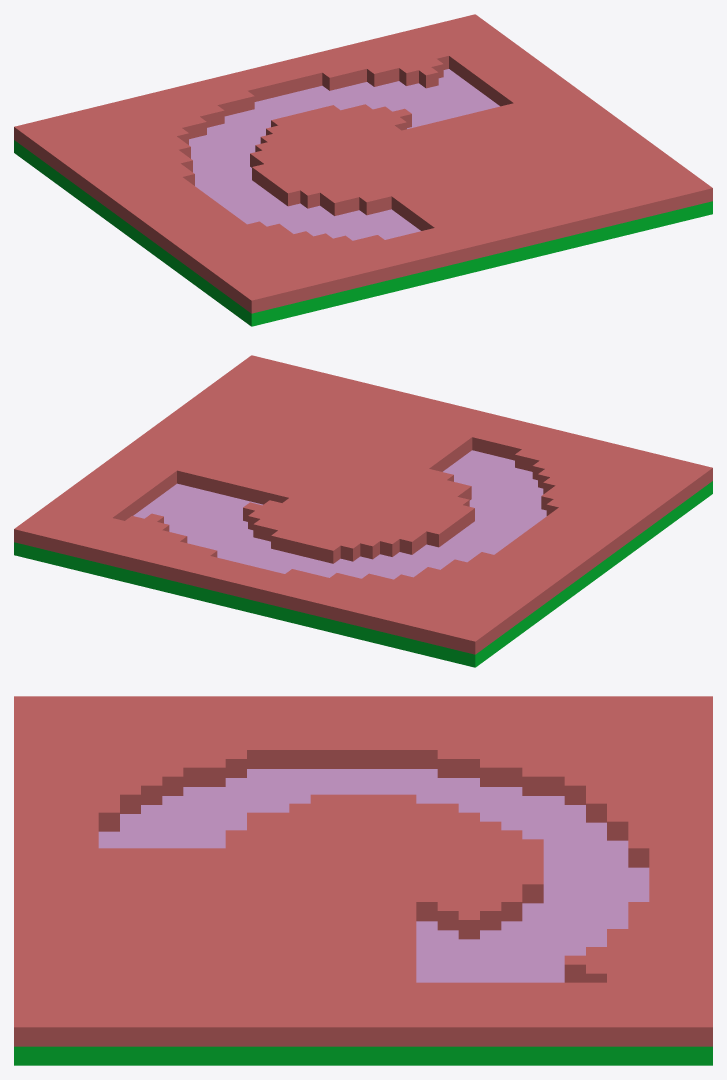
The model's file is cabin-4.obj.
3 views of the same model, one above another, from view 1: azimuth 30°, elevation 25°; view 2: azimuth 150°, elevation 25°; view 3: azimuth 270°, elevation 25° (orthographic). The views are drawn at different scales.
Size of the model in its own units: 3.7 by 0.2 by 3.3.
Materials: 1 (1 with a texture image).
